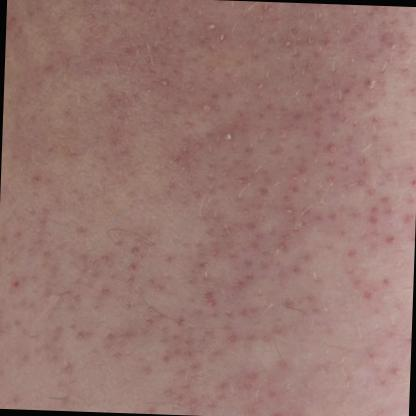Chicken Skin: (11, 2, 416, 416)
